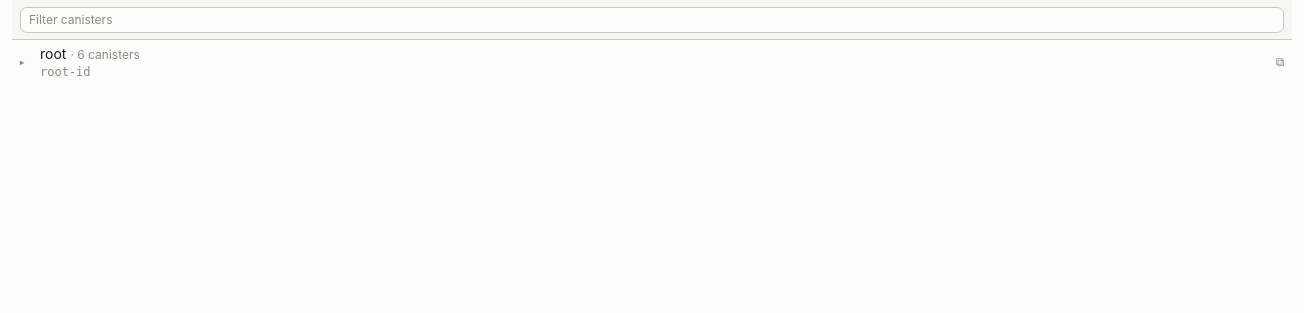
Scenario: a collapsed node hides its children and says how many
Click the button named "Expand root". click: (22, 62)
box: [12,40,32,84]
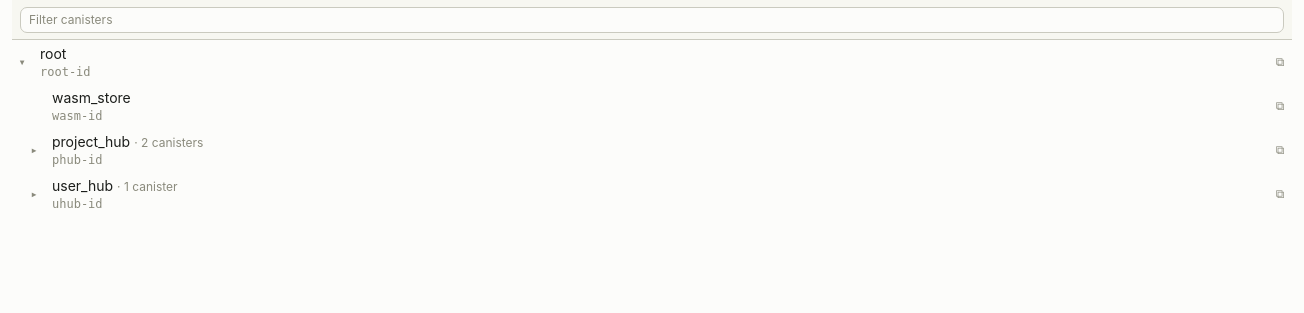
Check: the text "project_instance" is not shown
Check: the text "· 2 canisters" is shown, box [134,135,203,150]
Click the button named "Expand project_hub". click: (34, 150)
box: [24,128,44,172]
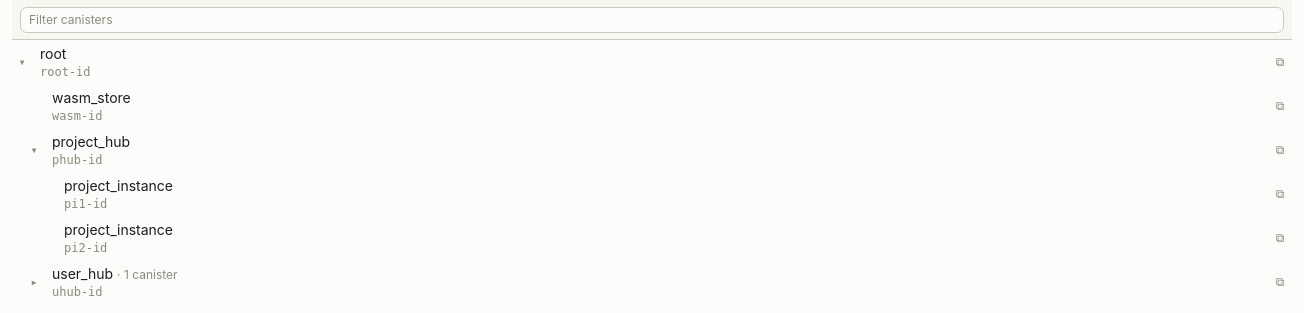
Check: the text "project_instance" is shown 2 times, box [64,177,173,194]; [64,221,173,238]
// And it folds away again.
Click the button named "Collapse project_hub". click: (34, 150)
box: [24,128,44,172]
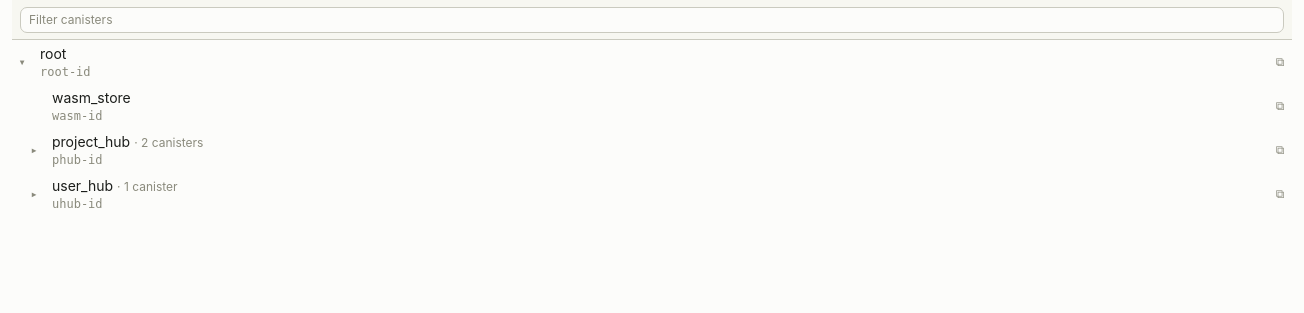
Check: the button "project_instance" is gone
